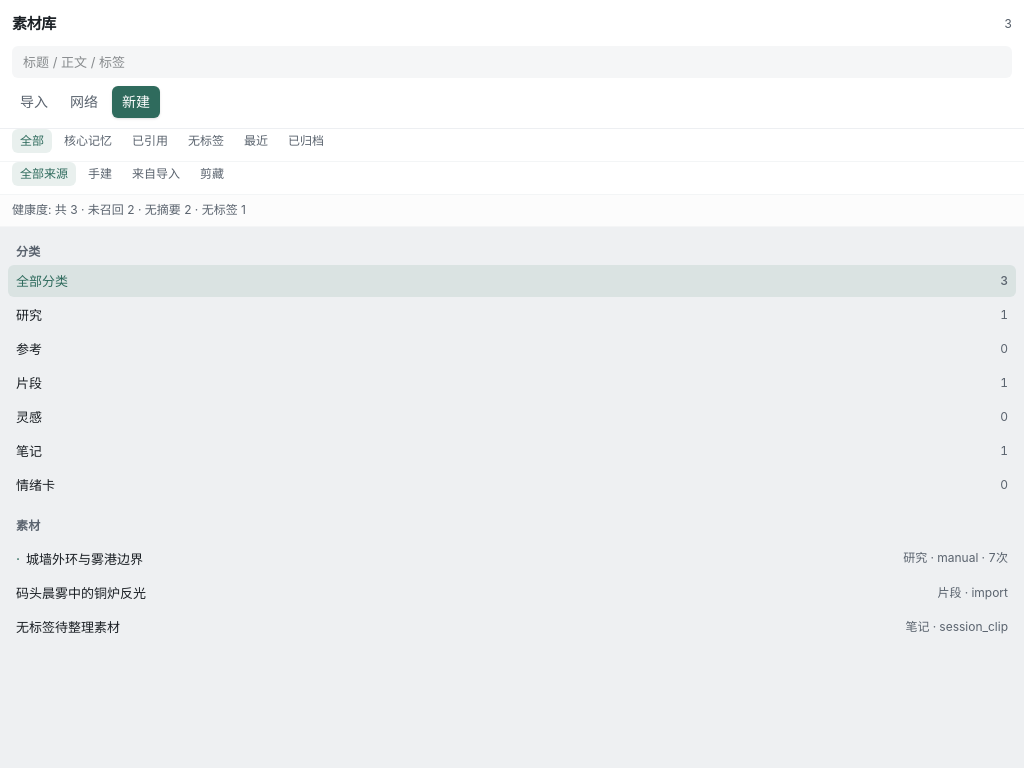
it: MaterialList 素材库工作台 › 来源筛选请求服务端 origin=import 并只显示导入素材
Expected: the button "全部来源" is shown, [12, 162, 76, 186]
Expected: the button "手建" is shown, [80, 162, 120, 186]
Click the button "来自导入".
click(156, 174)  # box [124, 162, 188, 186]
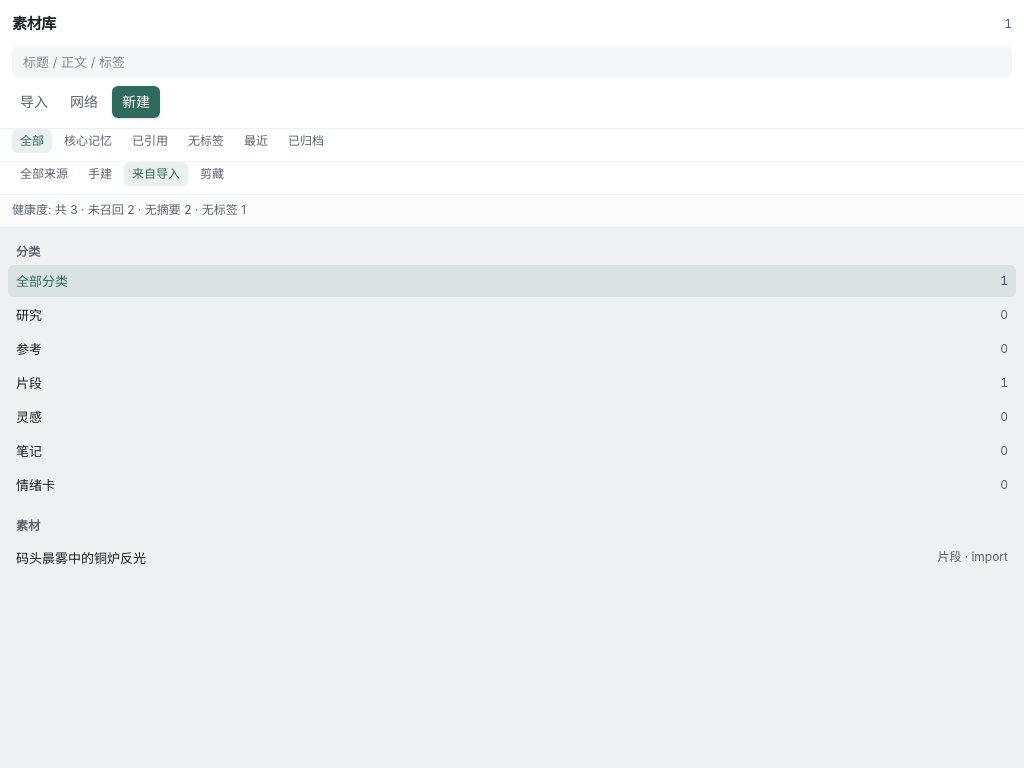
Expected: the button "码头晨雾中的铜炉反光 片段 · import" is shown, [8, 542, 1016, 574]
Now the button "城墙外环与雾港边界" is gone
Now the button "无标签待整理素材" is gone
